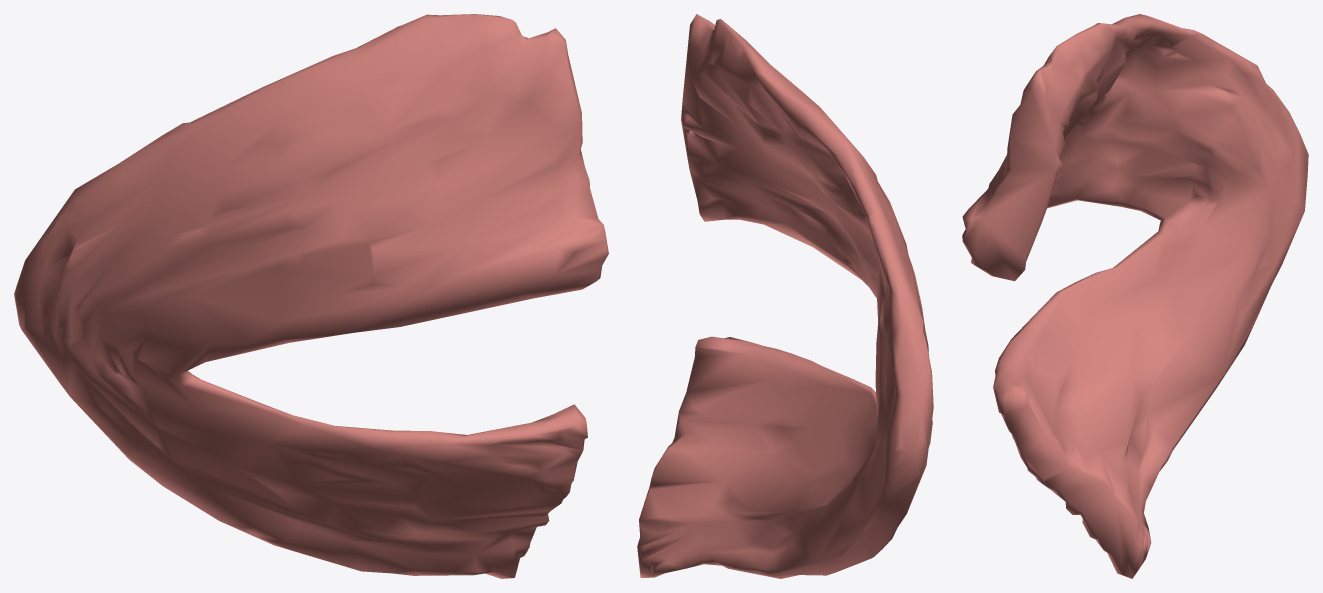
3 views of the same model, side by side, from view 1: azimuth 30°, elevation 25°; view 2: azimuth 150°, elevation 25°; view 3: azimuth 270°, elevation 25° (orthographic). The views are drawn at different scales.
Visible parts, largest first — view 1: ZA_6911b87e4adcad19; view 2: ZA_6911b87e4adcad19; view 3: ZA_6911b87e4adcad19.
Part boxes in pixels (x1,y1,x2,y2): ZA_6911b87e4adcad19: [14, 14, 608, 578]; ZA_6911b87e4adcad19: [637, 14, 933, 578]; ZA_6911b87e4adcad19: [962, 14, 1308, 578].
Size of the model in its own units: 0.0321 by 0.0454 by 0.0276.
